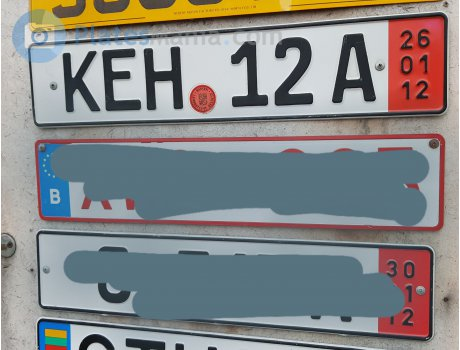License Plates: (41, 45, 385, 103)
